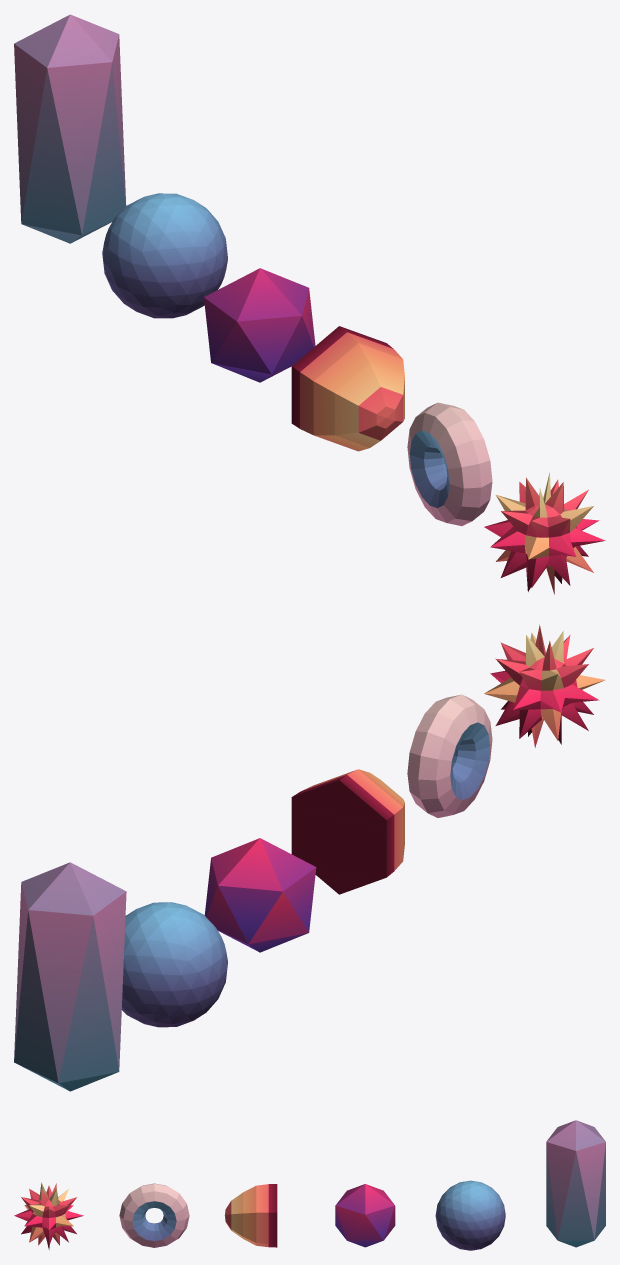
The model's file is stones.fbx.
The picture shows the model from 3 angles, top to bottom: view 1: azimuth 30°, elevation 25°; view 2: azimuth 150°, elevation 25°; view 3: azimuth 270°, elevation 25°; orthographic projection. The views are drawn at different scales.
Parts seen in each view (by area): view 1: Stone, Generator, Wall, Void, Laser, Spike; view 2: Stone, Generator, Wall, Void, Laser, Spike; view 3: Stone, Generator, Laser, Void, Wall, Spike.
Part boxes in pixels (box(x1,y1,x2,y2)): Stone: box(14, 14, 126, 243); Generator: box(102, 193, 227, 318); Wall: box(291, 326, 404, 451); Void: box(204, 268, 315, 382); Laser: box(407, 402, 492, 525); Spike: box(484, 472, 605, 594); Stone: box(14, 862, 126, 1091); Generator: box(121, 902, 227, 1027); Wall: box(291, 769, 404, 894); Void: box(204, 838, 316, 952); Laser: box(407, 694, 492, 817); Spike: box(484, 624, 605, 747); Stone: box(546, 1120, 605, 1247); Generator: box(435, 1180, 505, 1250); Laser: box(119, 1183, 189, 1247); Void: box(335, 1184, 395, 1247); Wall: box(224, 1184, 277, 1247); Spike: box(14, 1182, 83, 1249).
Bounding box in the file's own units: 200 × 400 × 1685.
